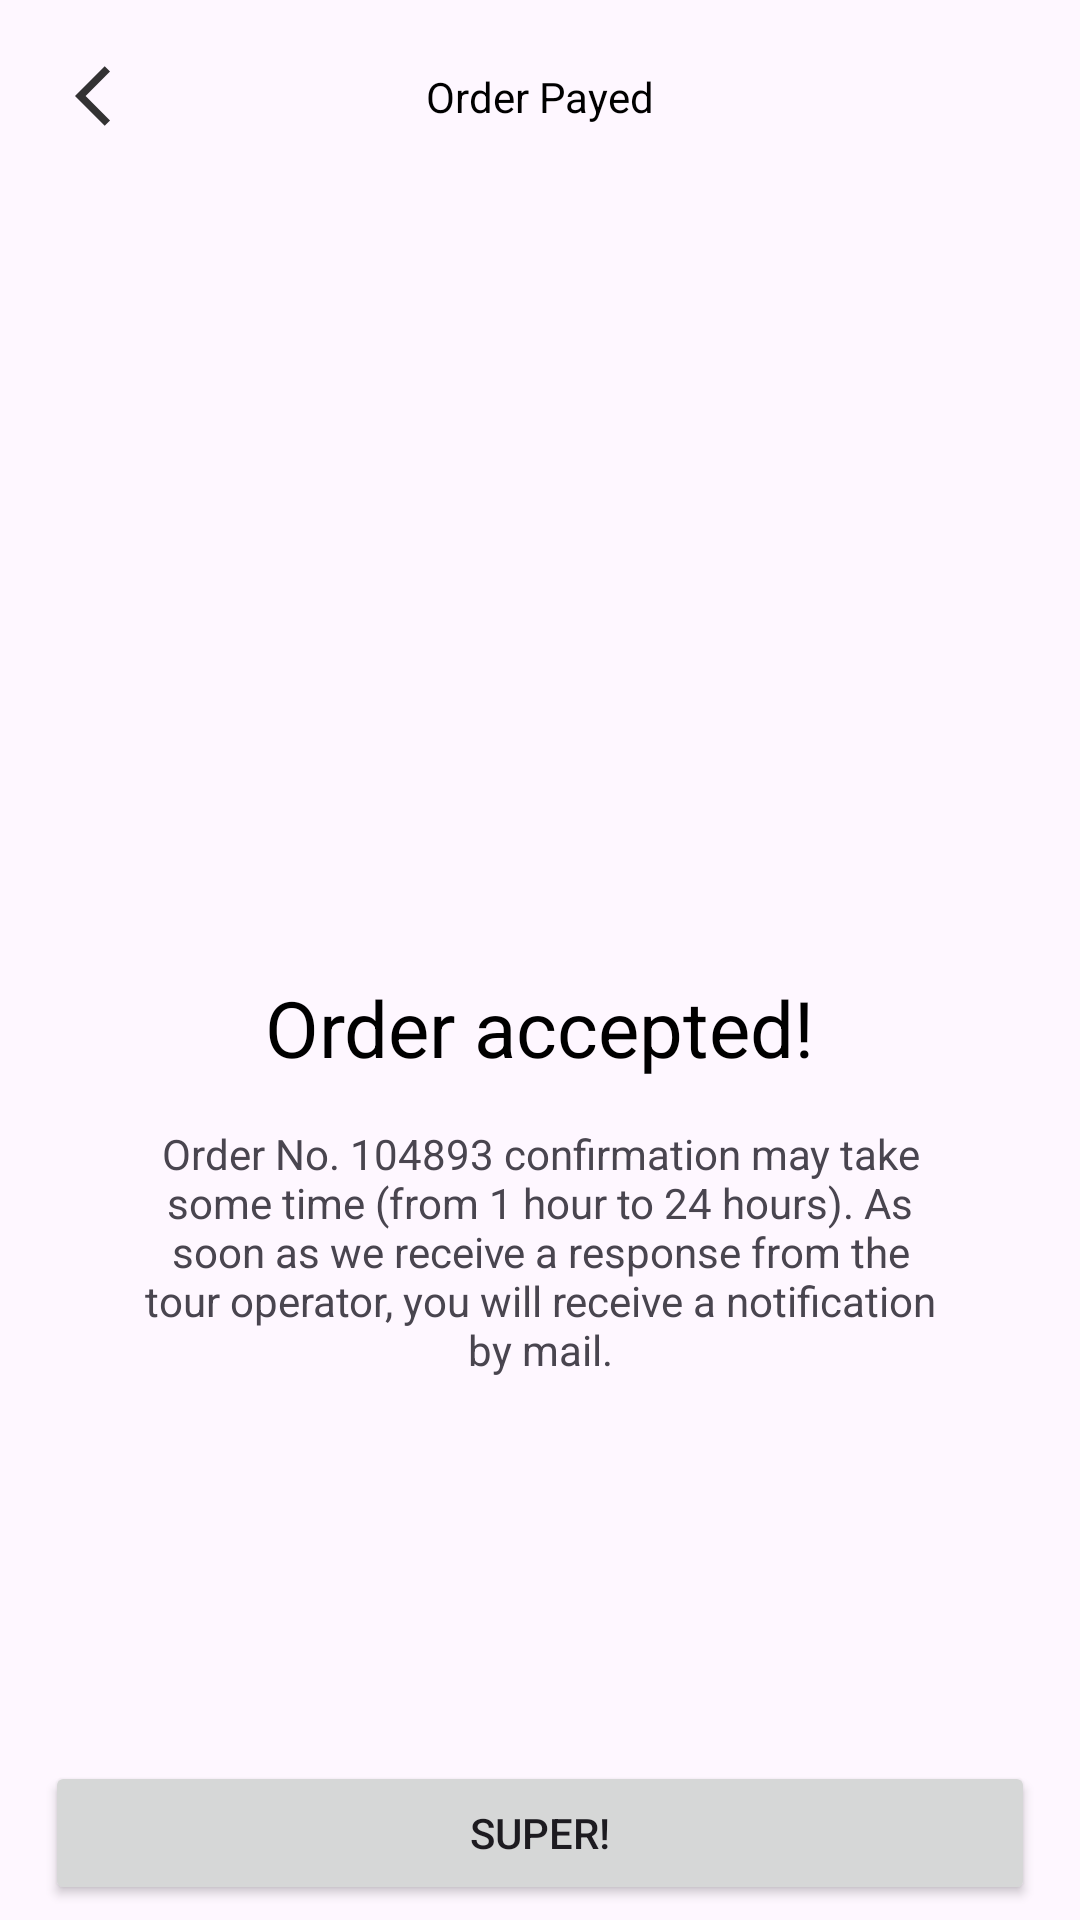

Point at icon controls on the screen. Image size 1080px x 1920px, points as [x,y].
back: [92,96]
